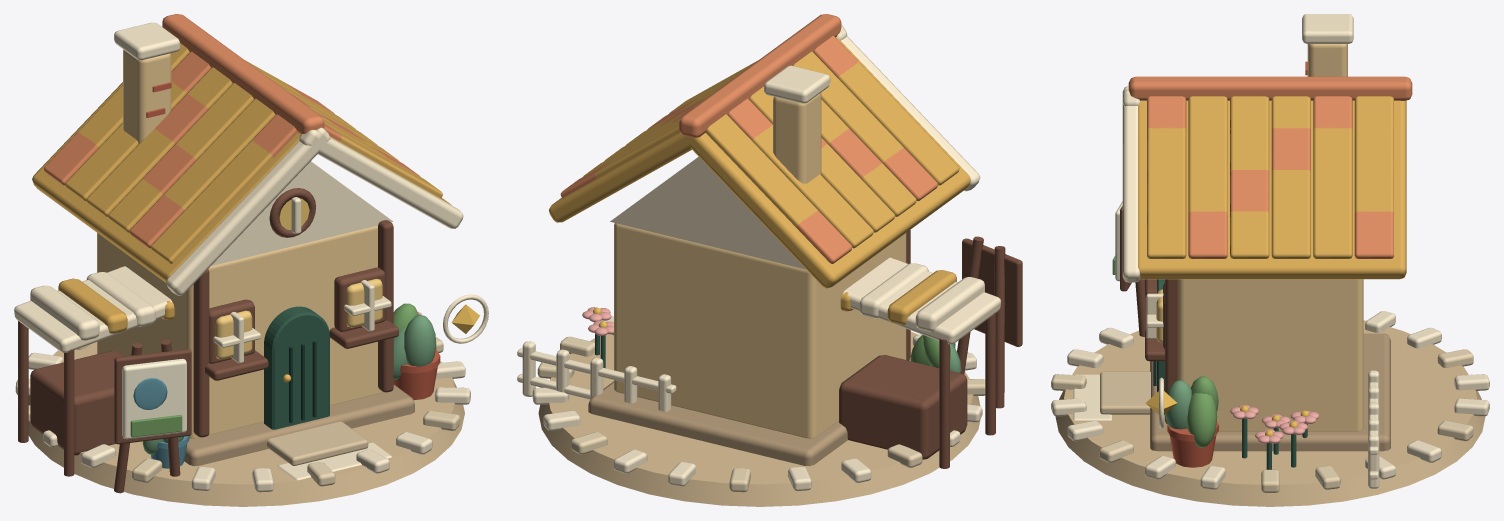
The model's file is studio.glb.
3 renders of one model, left to right at view 1: azimuth 30°, elevation 25°; view 2: azimuth 150°, elevation 25°; view 3: azimuth 270°, elevation 25°, orthographic. The views are drawn at different scales.
Parts seen in each view (by area): view 1: building-studio, landmark-studio, treasure-studio; view 2: building-studio, landmark-studio; view 3: building-studio, landmark-studio, treasure-studio.
Boxes of the visible parts, left/top/right/bottom form: building-studio: left=14, top=14, right=463, bottom=493; landmark-studio: left=15, top=337, right=470, bottom=506; treasure-studio: left=443, top=294, right=488, bottom=343; building-studio: left=517, top=14, right=1022, bottom=468; landmark-studio: left=532, top=316, right=985, bottom=506; building-studio: left=1073, top=14, right=1412, bottom=488; landmark-studio: left=1051, top=311, right=1489, bottom=506; treasure-studio: left=1146, top=377, right=1177, bottom=428.
Bounding box in the file's own units: 1.6 × 1.39 × 1.53.
